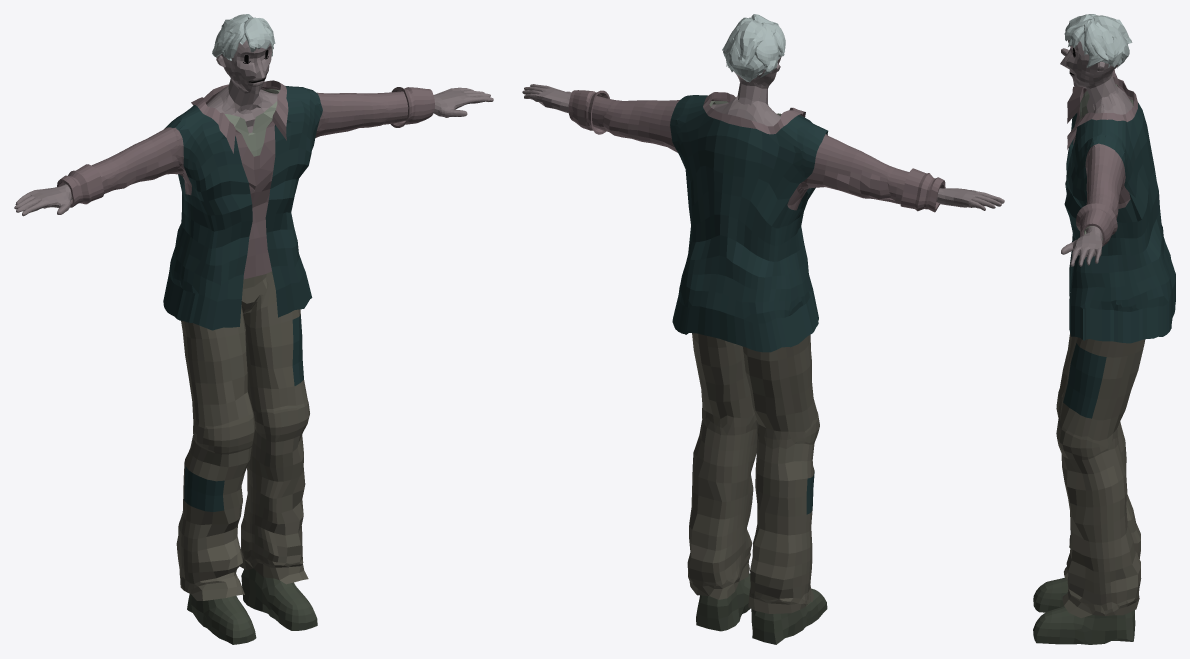
File: mainCharacter.fbx
The picture shows the model from 3 angles, left to right: view 1: azimuth 30°, elevation 25°; view 2: azimuth 150°, elevation 25°; view 3: azimuth 270°, elevation 25°; orthographic projection.
Visible parts, largest first — view 1: pants_GEO, vest_GEO, blouse_GEO, body_GEO, shoes_GEO, hair_GEO, undershirt_GEO; view 2: pants_GEO, vest_GEO, blouse_GEO, body_GEO, shoes_GEO, hair_GEO; view 3: pants_GEO, vest_GEO, blouse_GEO, shoes_GEO, body_GEO, hair_GEO, undershirt_GEO.
Part boxes in pixels (box(x1,y1,x2,y2)): pants_GEO: box(176, 271, 309, 600); vest_GEO: box(163, 86, 322, 330); blouse_GEO: box(57, 80, 434, 279); body_GEO: box(14, 40, 493, 216); shoes_GEO: box(187, 568, 317, 644); hair_GEO: box(212, 14, 275, 60); undershirt_GEO: box(65, 89, 279, 199); pants_GEO: box(687, 333, 819, 613); vest_GEO: box(670, 95, 828, 352); blouse_GEO: box(568, 90, 945, 212); body_GEO: box(522, 56, 1004, 210); shoes_GEO: box(696, 573, 827, 644); hair_GEO: box(722, 14, 785, 82); pants_GEO: box(1056, 333, 1145, 618); vest_GEO: box(1064, 102, 1175, 343); blouse_GEO: box(1067, 69, 1137, 246); shoes_GEO: box(1033, 577, 1135, 644); body_GEO: box(1060, 39, 1132, 266); hair_GEO: box(1064, 14, 1132, 68); undershirt_GEO: box(1079, 84, 1133, 239).
Size of the model in its own units: 171 by 207 by 43.88.
